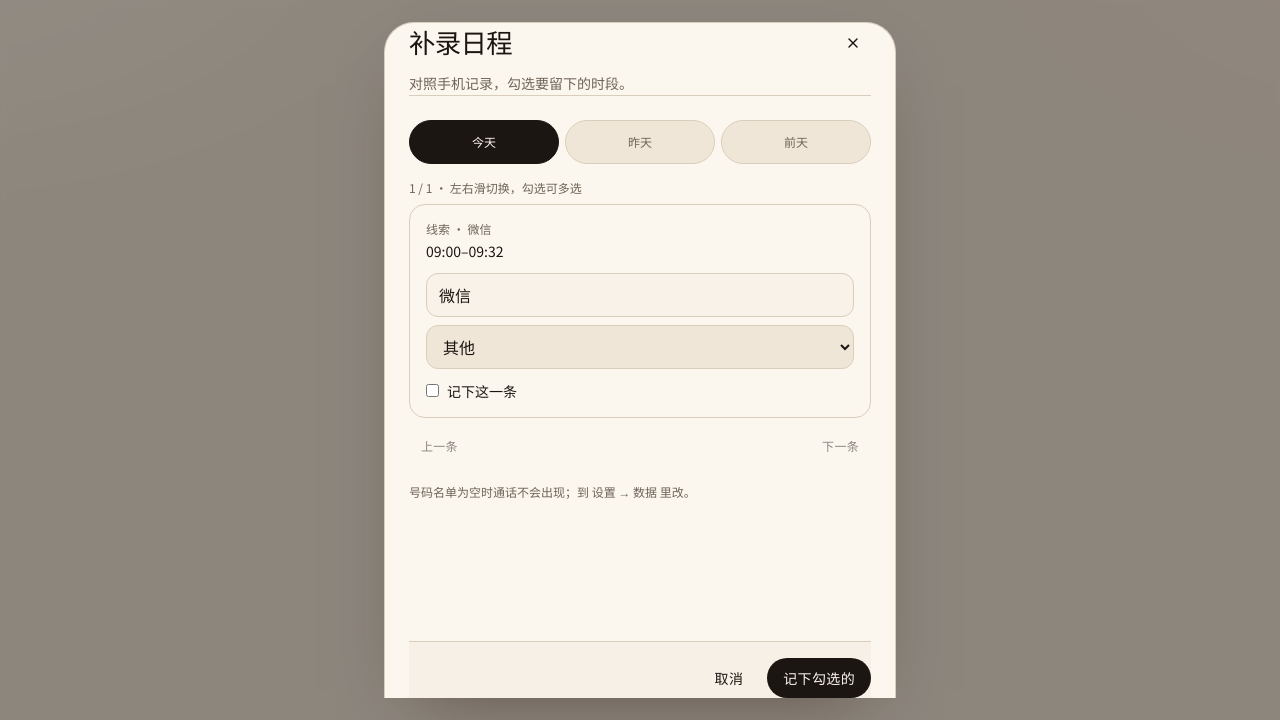
Test: DayReplayEntry › does not update app-tag memory when commit fails
Select "生活" in the dropdown named "微信的标签" at (640, 347), box [426,325,854,369]
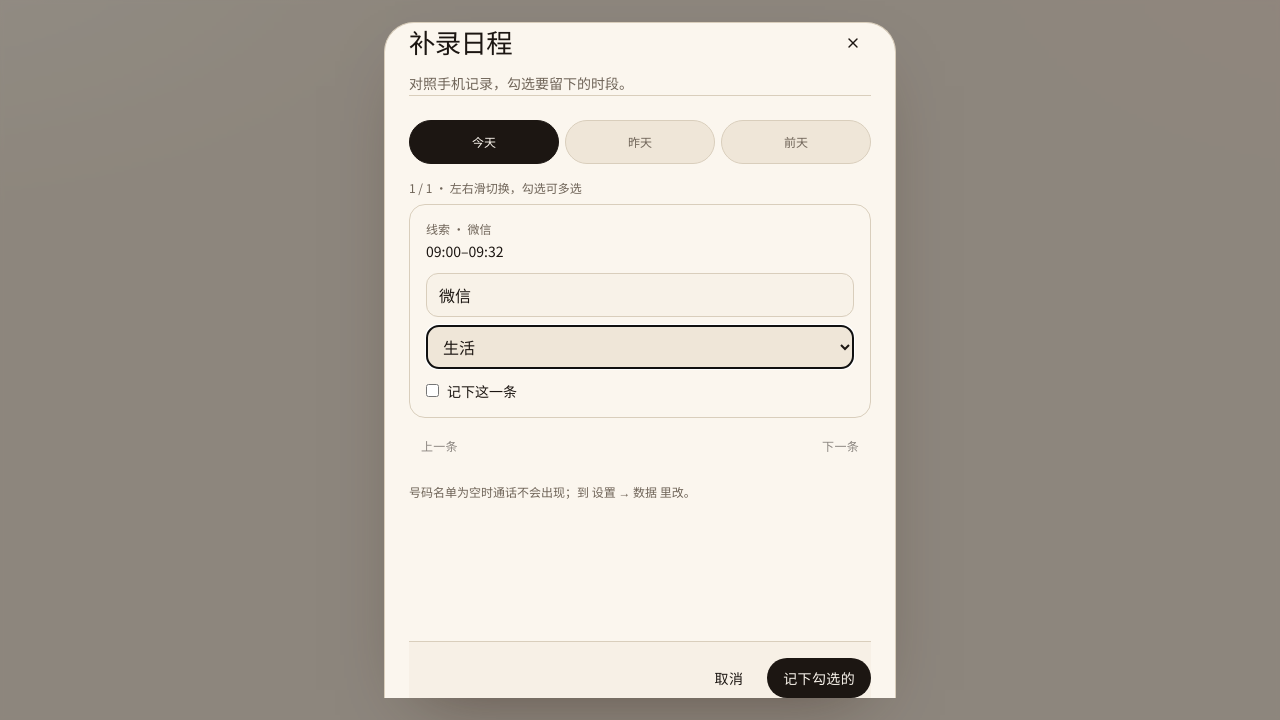
Click the checkbox at (432, 391), box [426,384,439,398]
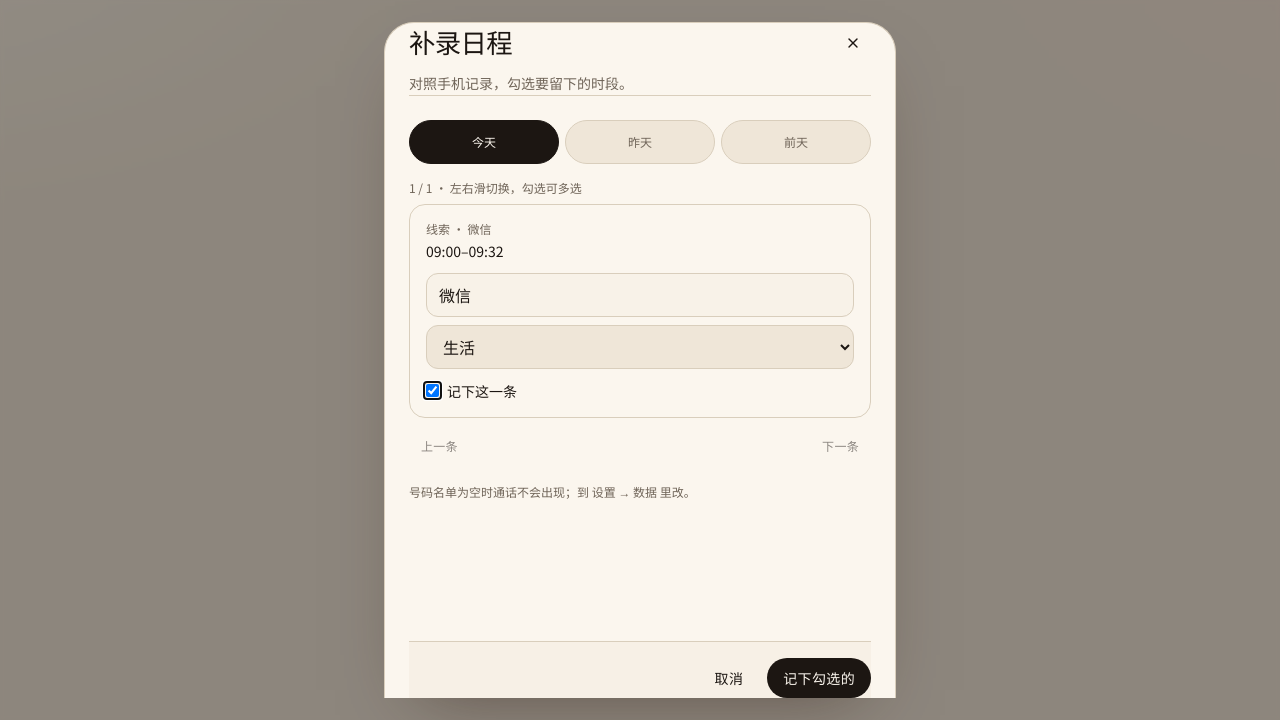
Click the button "记下勾选的" at (819, 678), box [767,658,871,698]
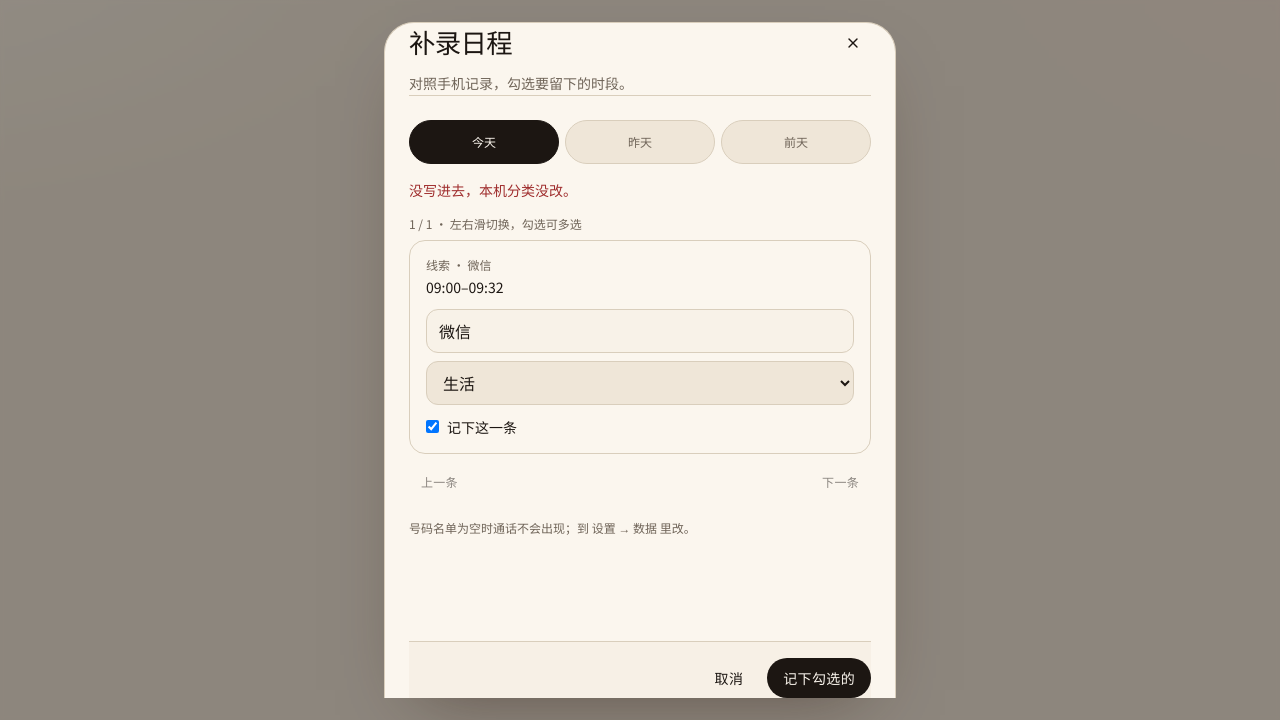
Now the text "没写进去，本机分类没改。" is shown, box [409,180,577,200]
